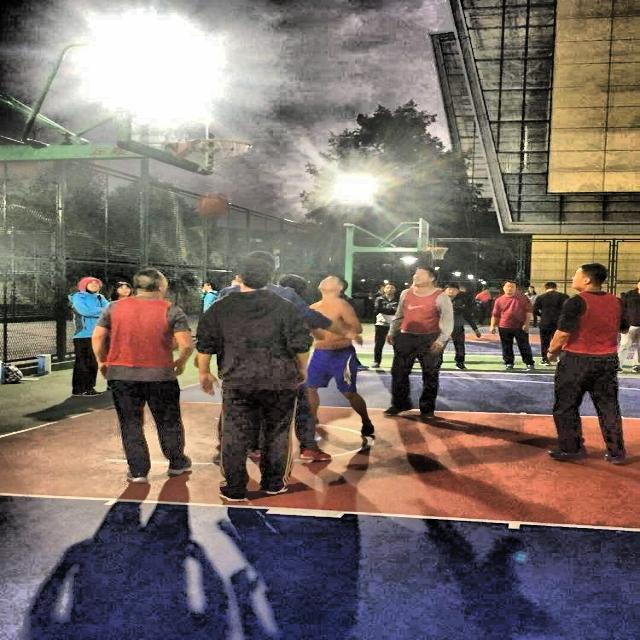board: (196, 194, 228, 219)
